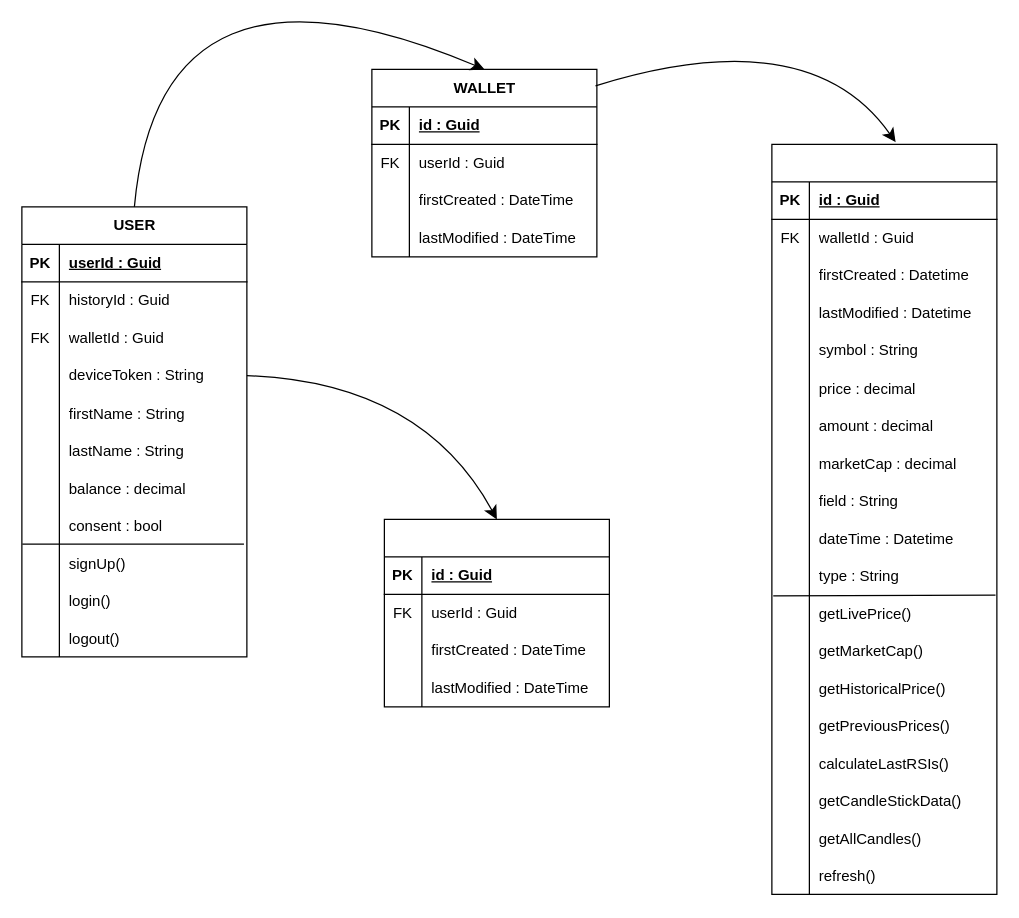
This 1019x918 diagram has some shape labels left out. Here are the shapes that lost their labels. From the top down, the box of each, then its label:
(771, 143, 997, 894): COIN
(383, 518, 609, 707): HISTORY
